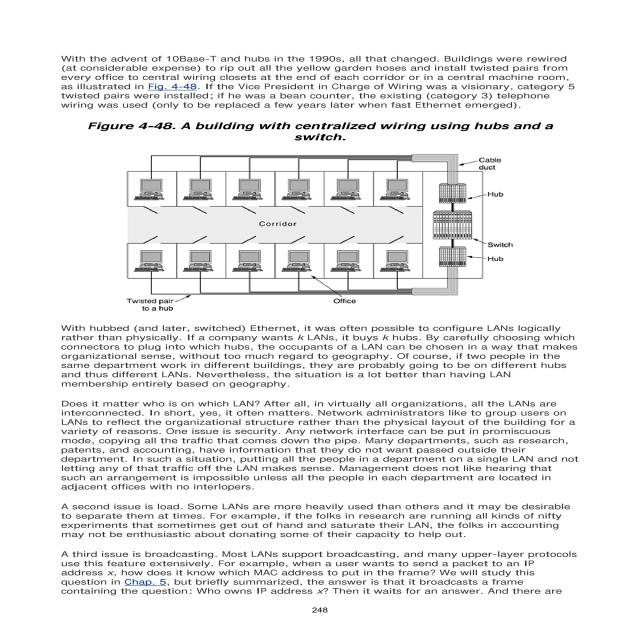diagram: (62, 110, 611, 314)
